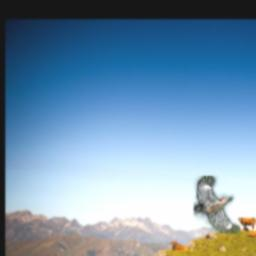Woodpecker: (194, 177, 240, 235)
